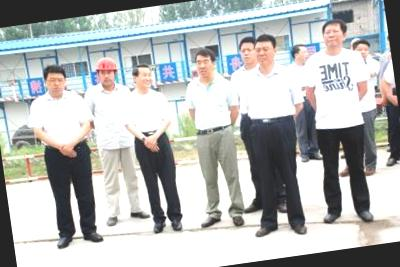no_helmet: (316, 14, 350, 52), (250, 28, 281, 66), (39, 62, 70, 96), (189, 44, 219, 79), (233, 32, 261, 69), (128, 61, 156, 91), (351, 36, 374, 66), (290, 38, 311, 63)
